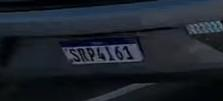Placa_mercosul_carro: (61, 42, 145, 66)
